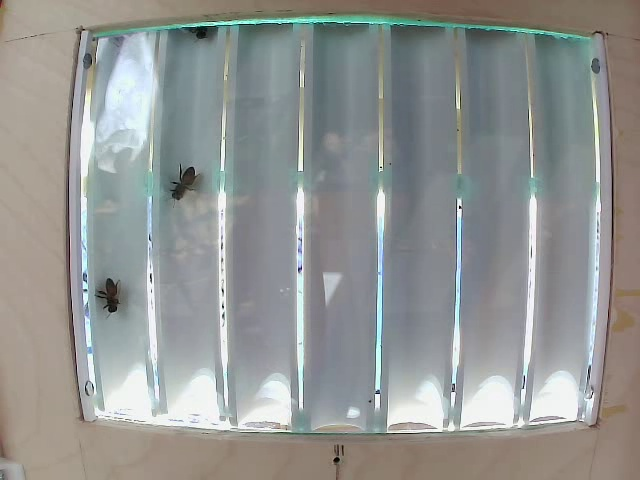bee: (83, 269, 118, 319), (168, 151, 193, 215)
